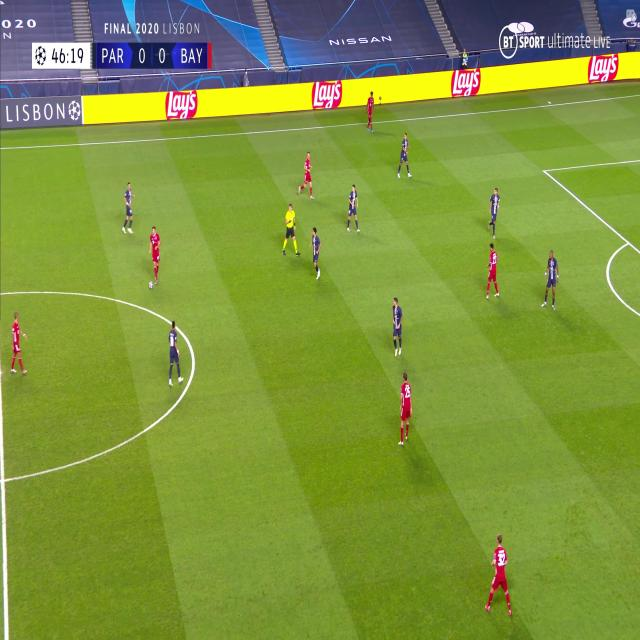ball: (148, 280, 154, 290)
player: (483, 533, 514, 618), (8, 310, 28, 376), (540, 248, 560, 310), (397, 372, 413, 448), (166, 320, 182, 389), (281, 201, 300, 256), (147, 224, 162, 288), (484, 241, 500, 300), (389, 296, 403, 358), (121, 180, 136, 235), (298, 150, 314, 199), (345, 183, 360, 233), (487, 185, 501, 238), (396, 132, 412, 178), (309, 225, 322, 281), (365, 89, 376, 133)
